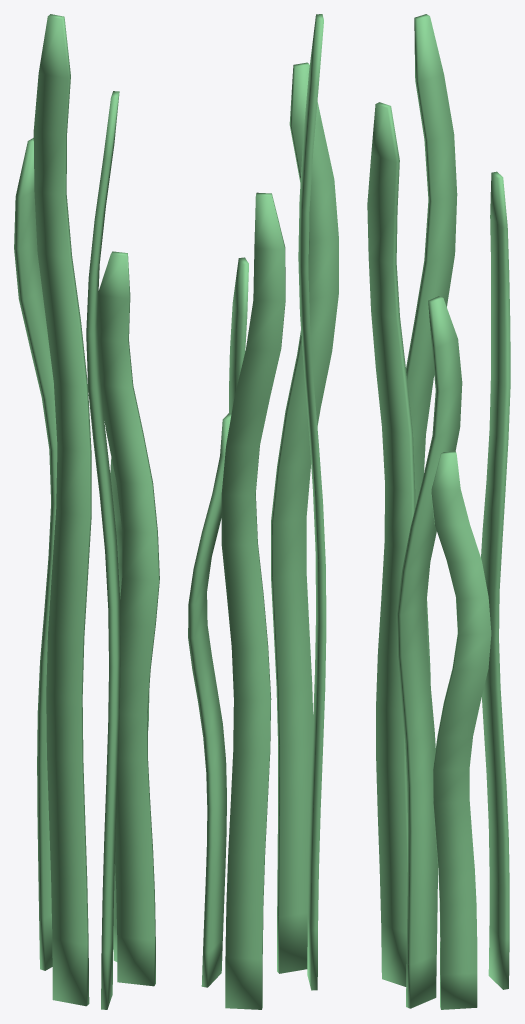
Rendered from Medium2.fbx.
3 renders of one model, left to right at view 1: azimuth 30°, elevation 25°; view 2: azimuth 150°, elevation 25°; view 3: azimuth 270°, elevation 25°, orthographic. The views are drawn at different scales.
Parts seen in each view (by area): view 1: Medium2_EXPORT; view 2: Medium2_EXPORT; view 3: Medium2_EXPORT.
Boxes of the visible parts, box(x1,y1,x2,y2) form: Medium2_EXPORT: box(14, 14, 159, 1009); Medium2_EXPORT: box(188, 14, 338, 1009); Medium2_EXPORT: box(367, 14, 510, 1009).
Bounding box in the file's own units: 0.8892 × 7.47 × 1.02.
